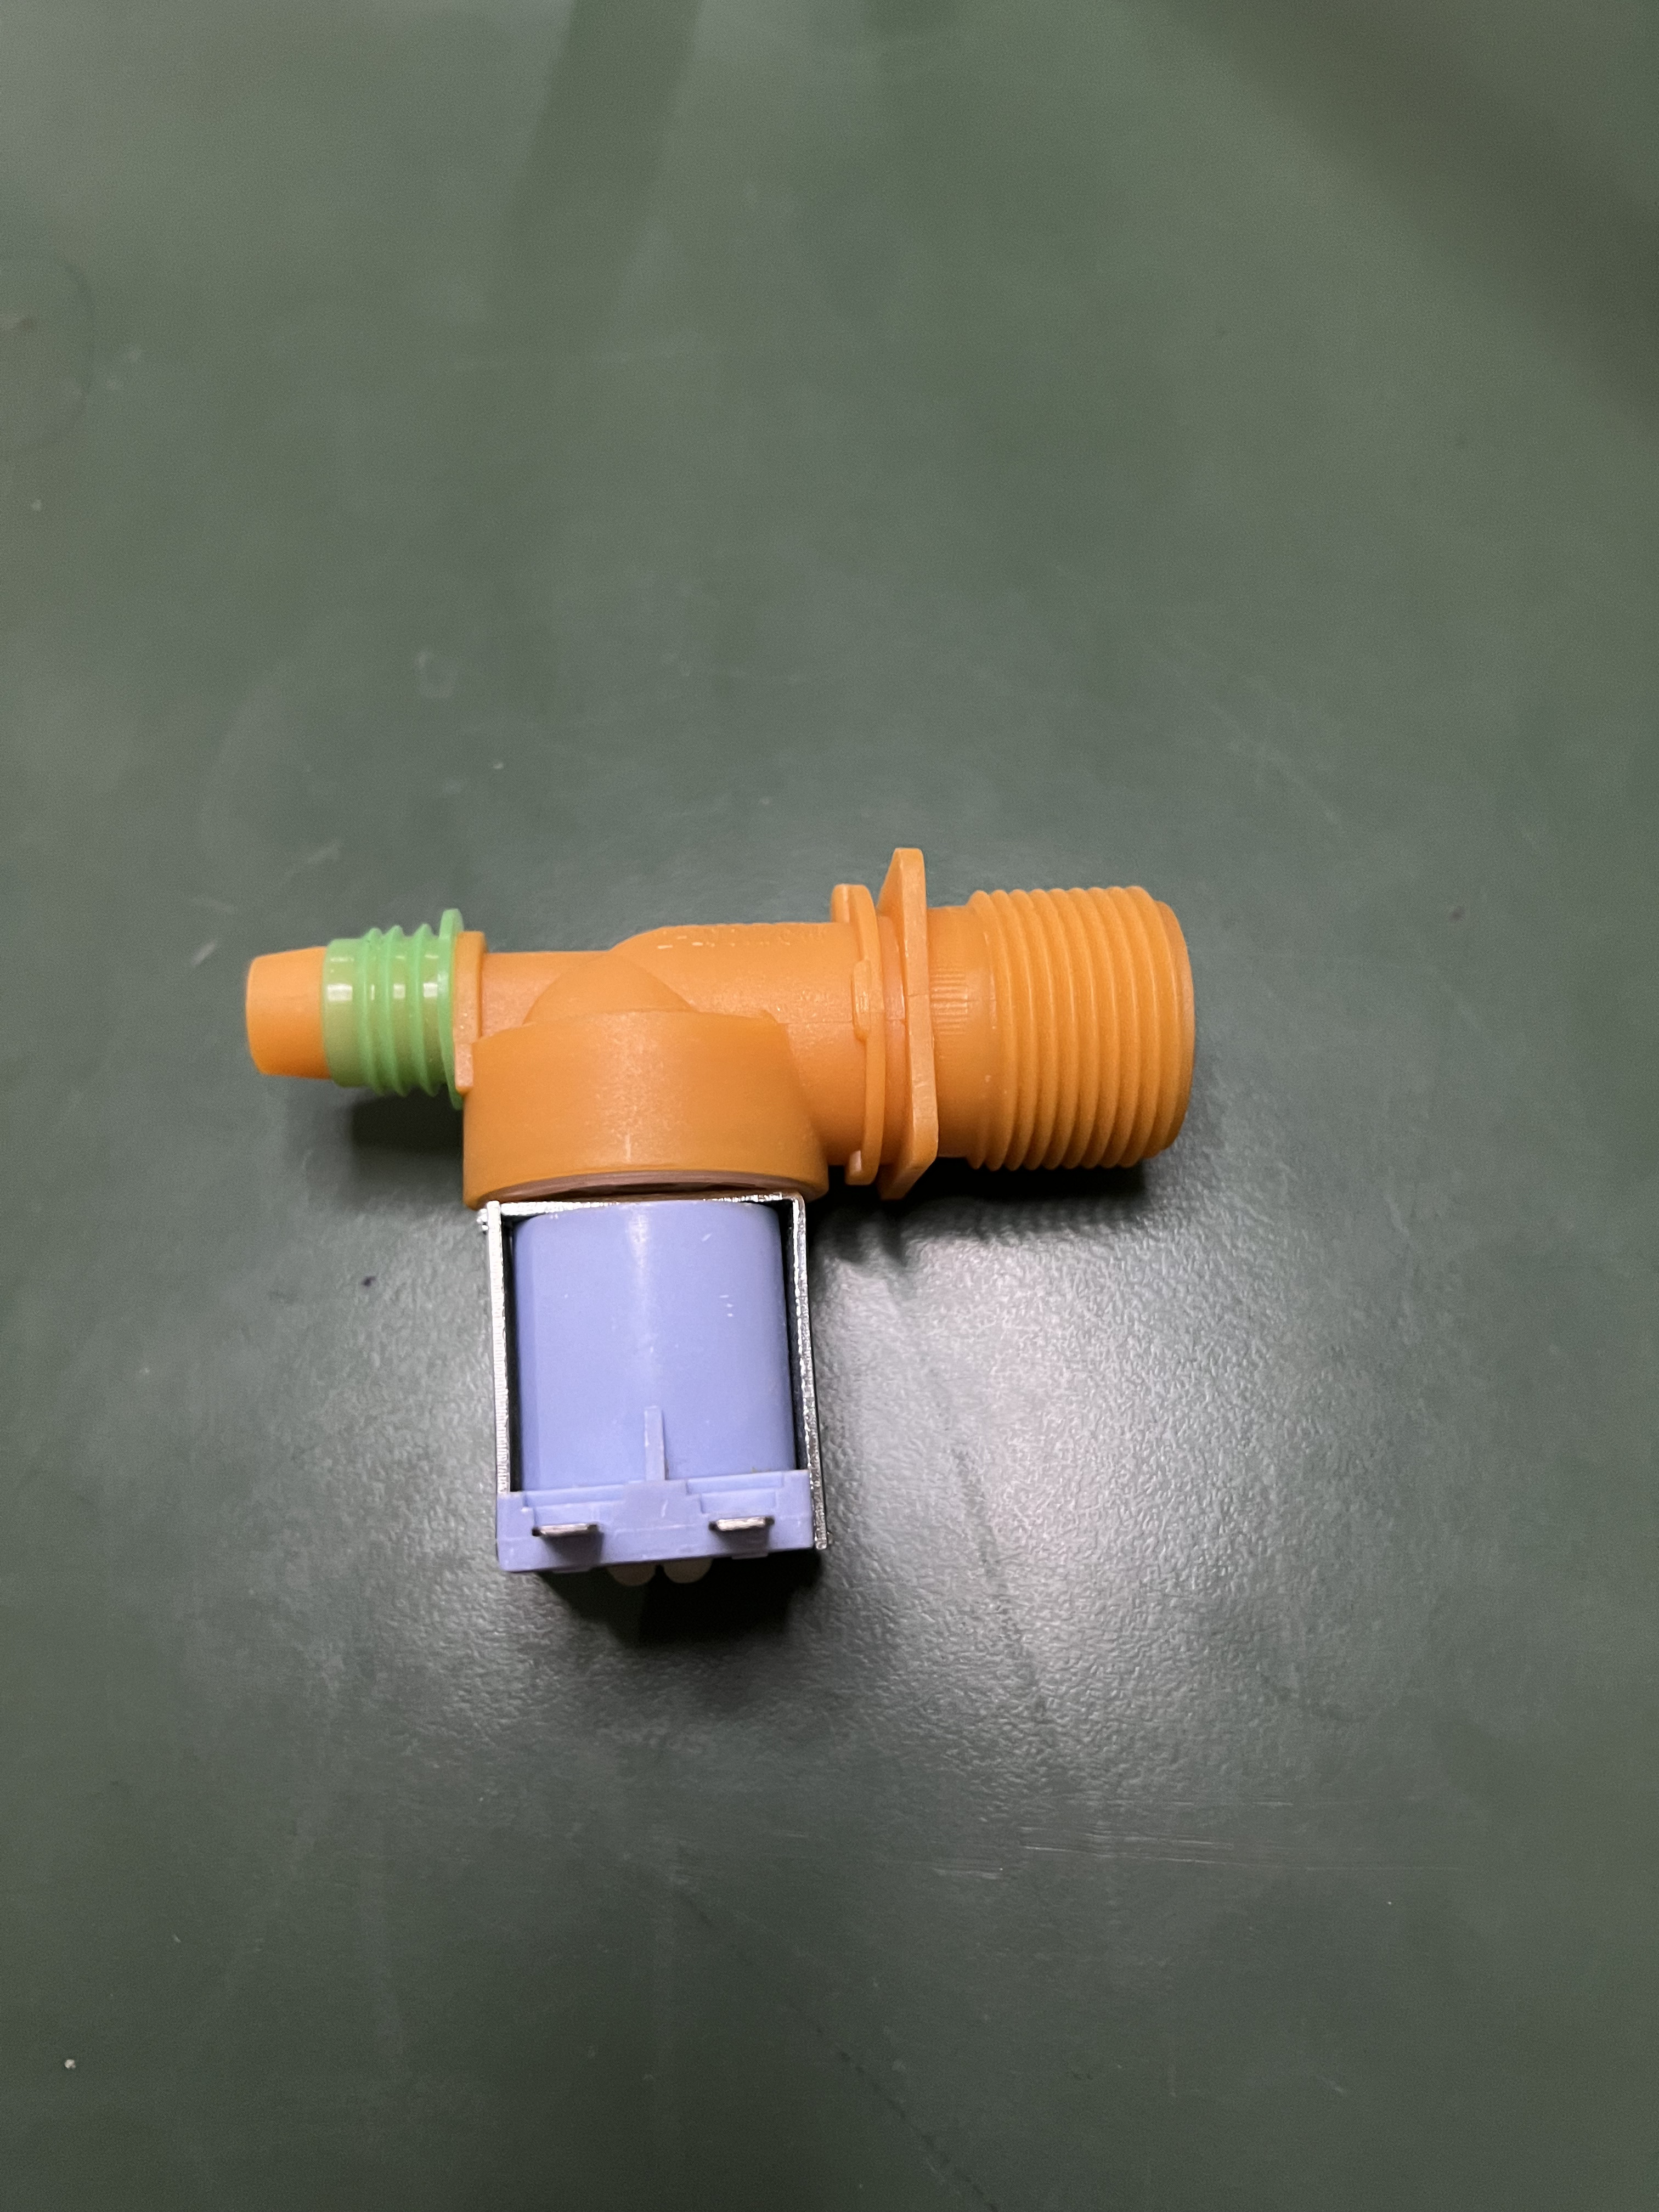ss_inlet_valves: (234, 855, 1281, 1648)
